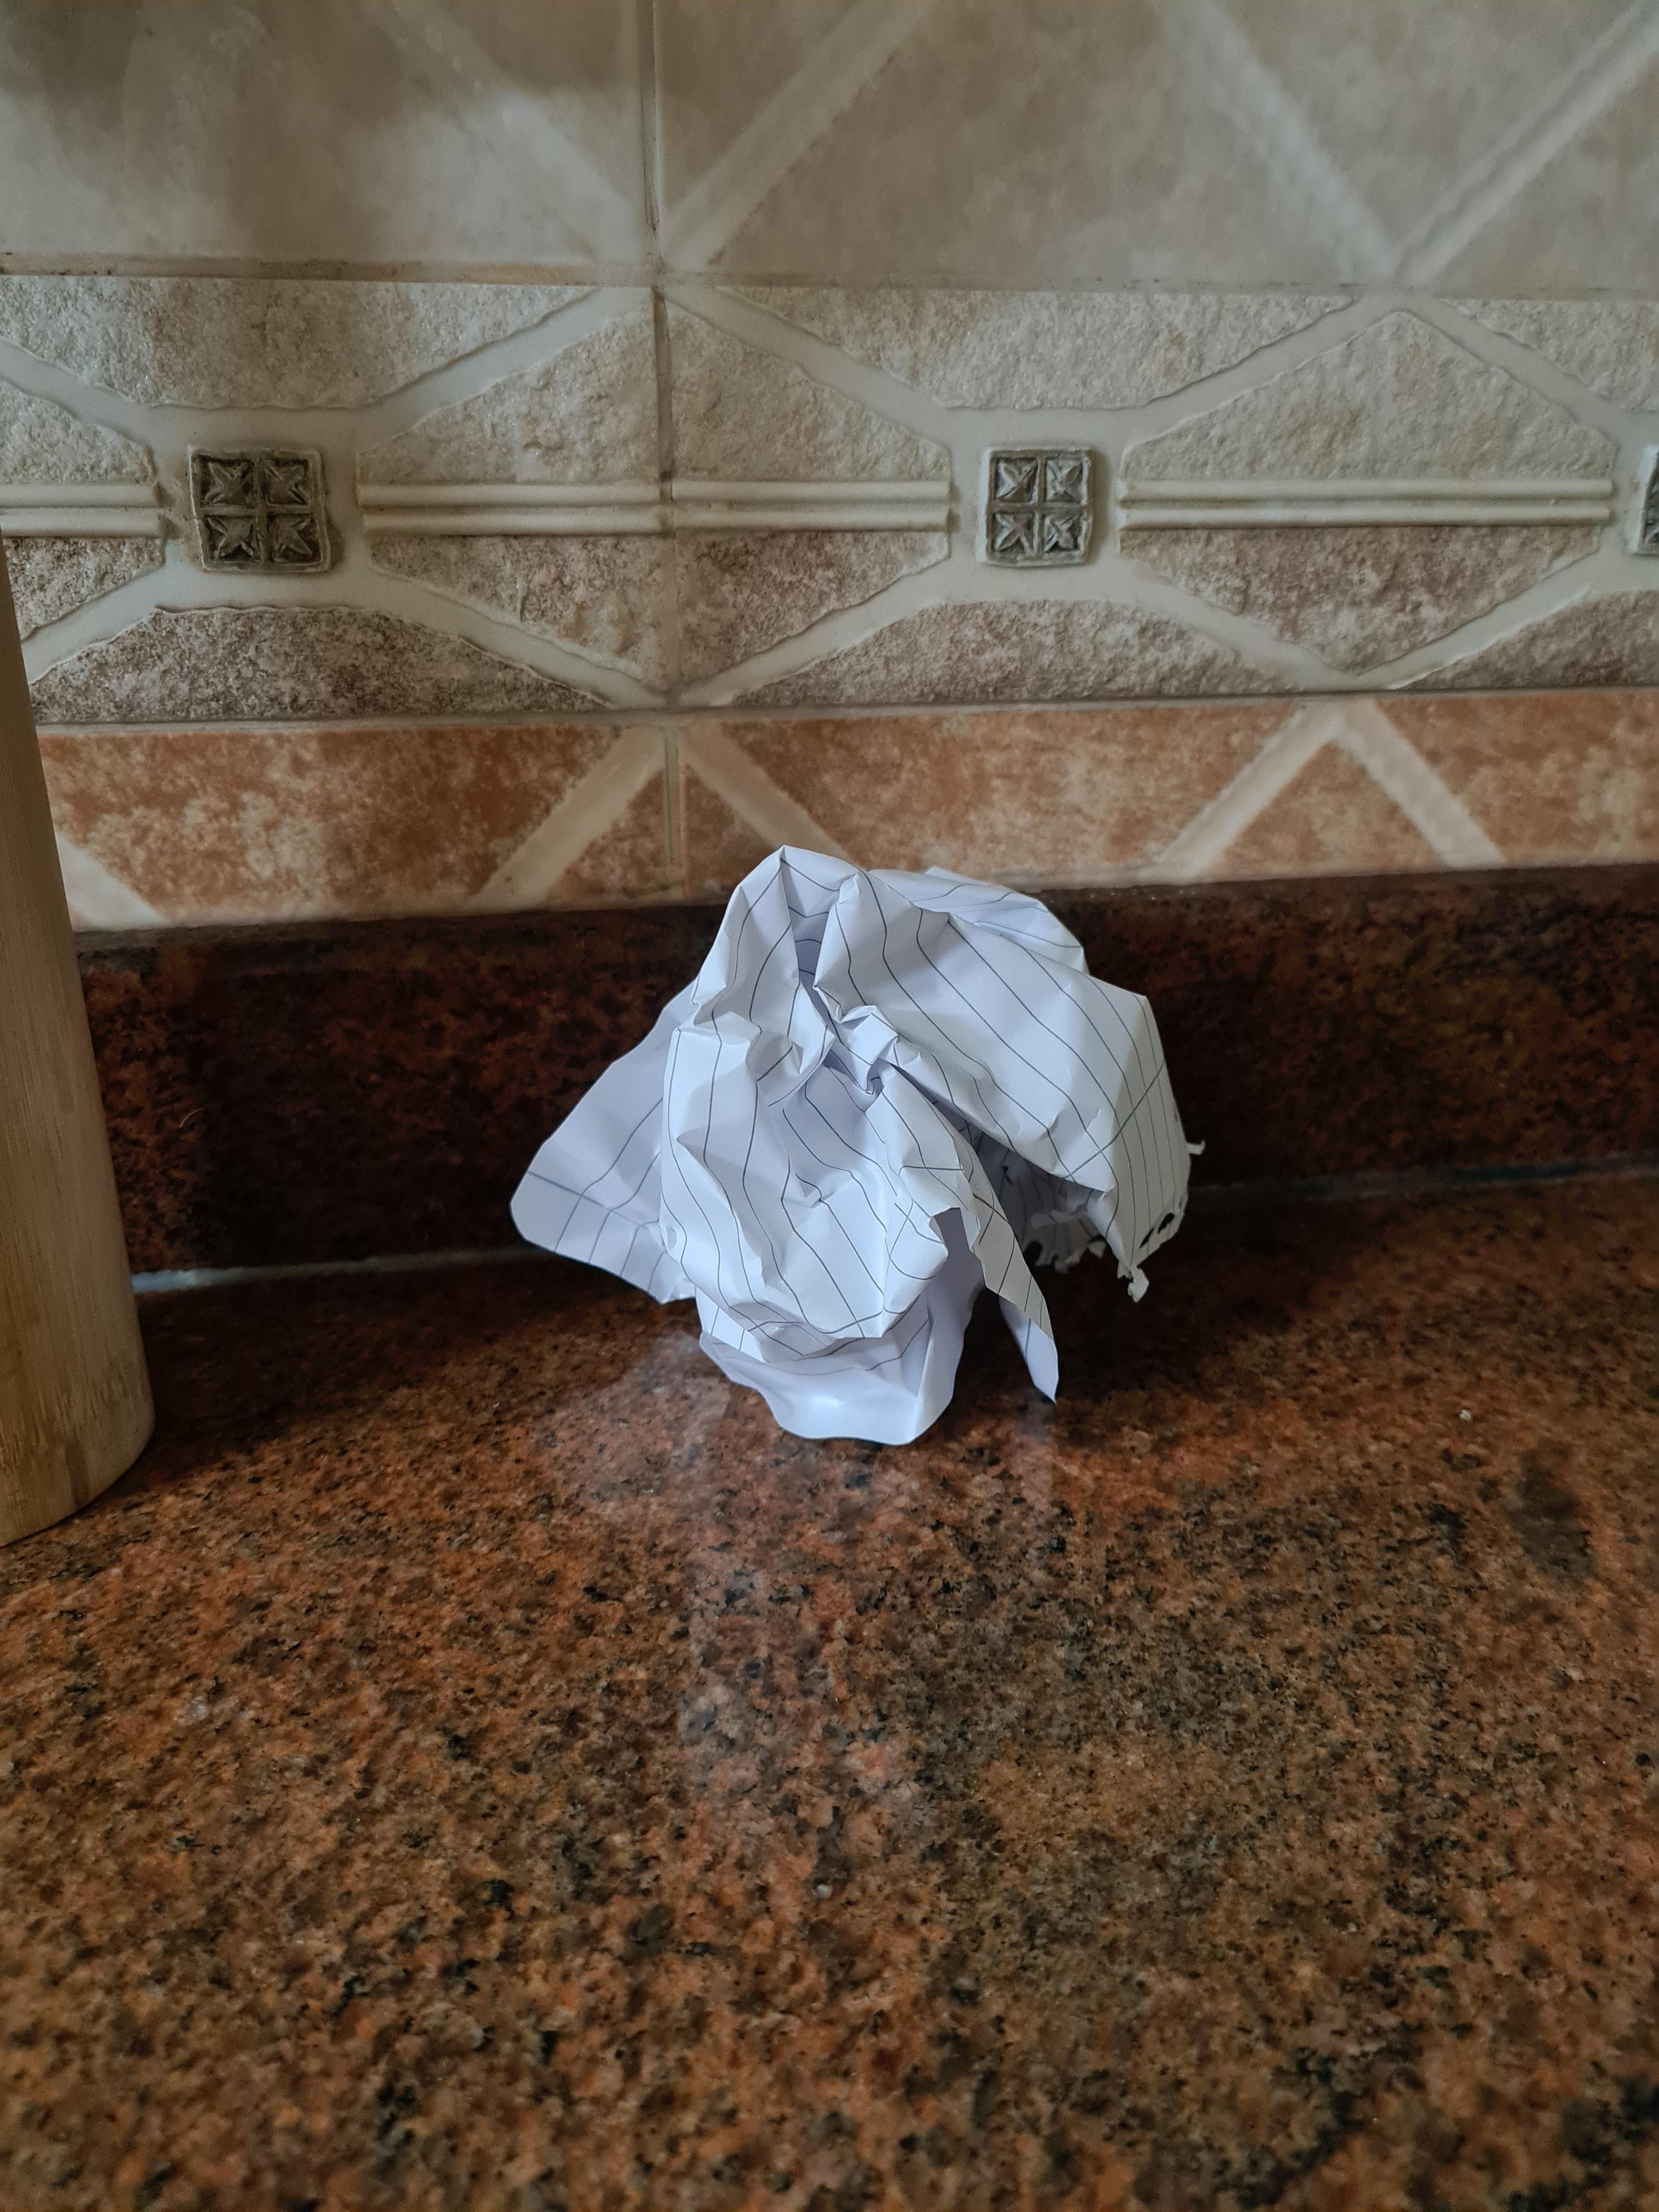Paper: (528, 851, 1204, 1483)
